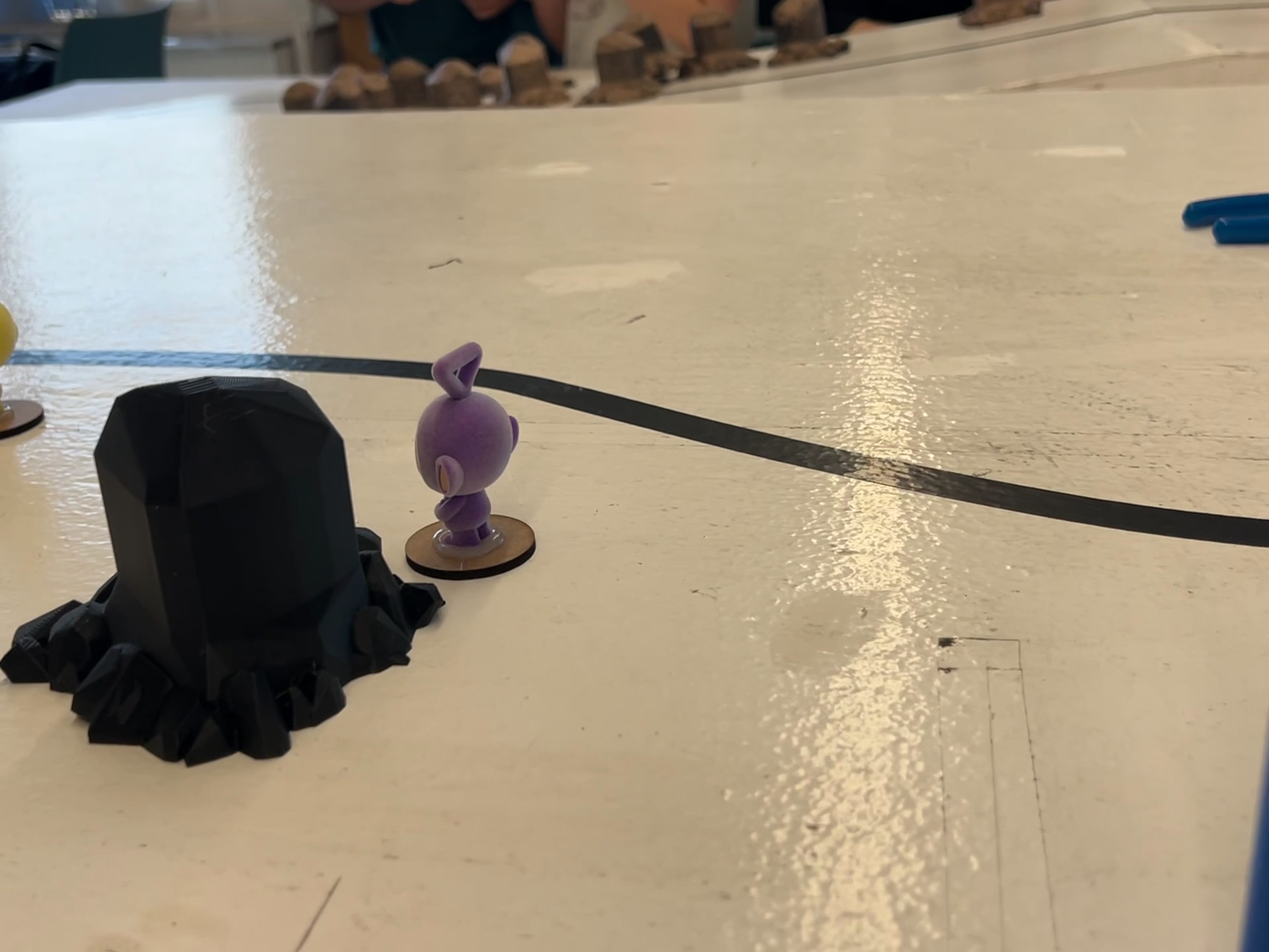teletubby: (415, 343, 518, 555)
